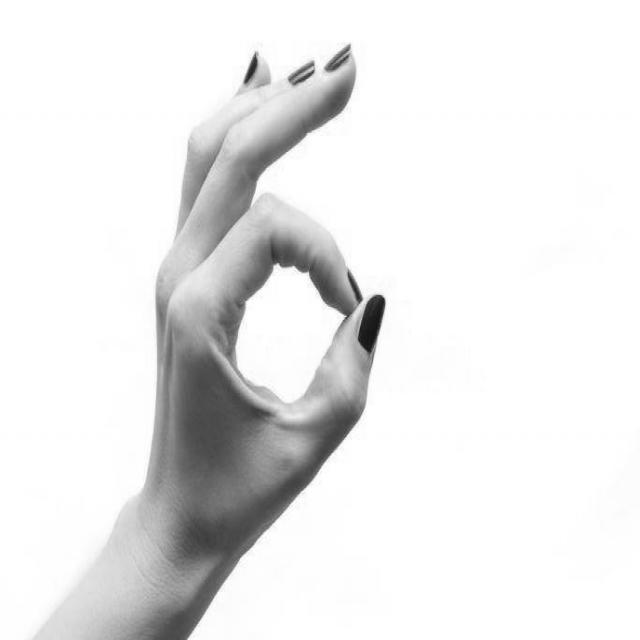perfect: (123, 34, 391, 599)
